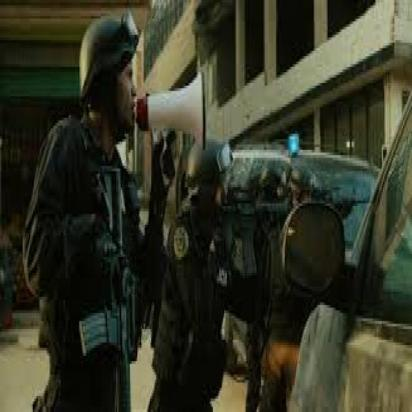Gun: (77, 164, 140, 412), (191, 187, 292, 293)
